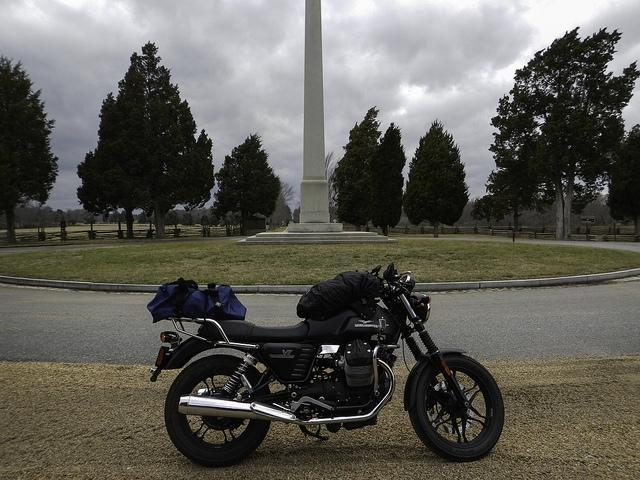motorcycle: (143, 255, 507, 462)
